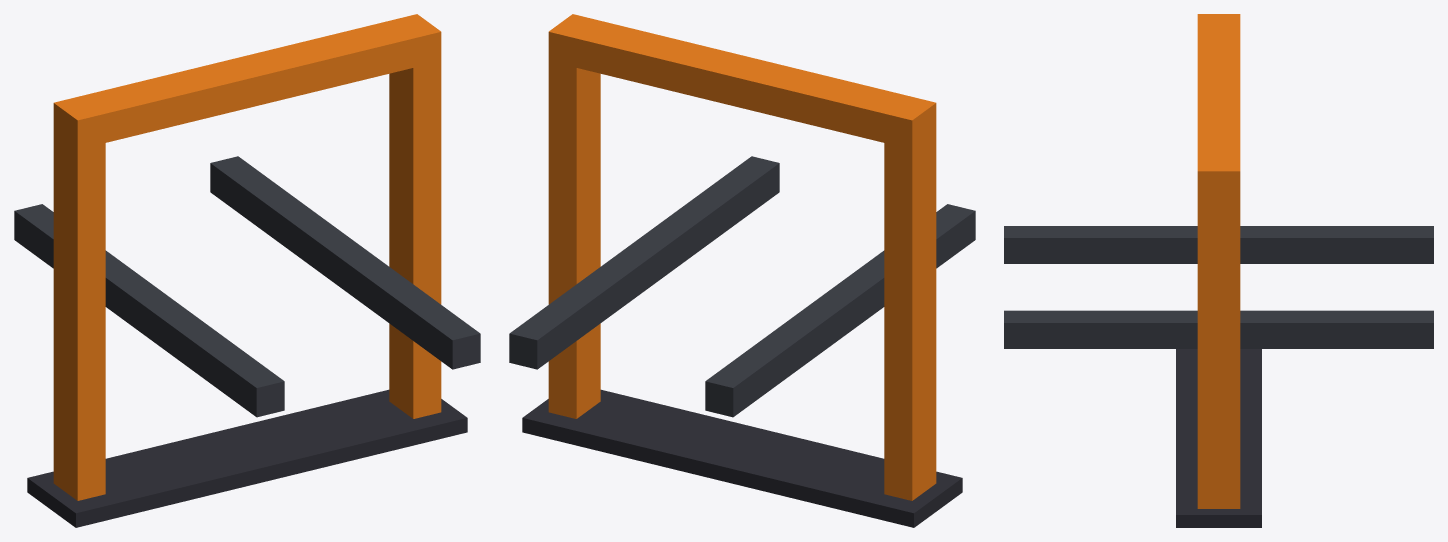
The model's file is garage_car_lift.glb.
The picture shows the model from 3 angles, left to right: view 1: azimuth 30°, elevation 25°; view 2: azimuth 150°, elevation 25°; view 3: azimuth 270°, elevation 25°; orthographic projection. The views are drawn at different scales.
Visible parts, largest first — view 1: car_lift; view 2: car_lift; view 3: car_lift.
Part boxes in pixels (<box>): car_lift: <box>14,14,480,527</box>; car_lift: <box>509,14,975,527</box>; car_lift: <box>1004,14,1433,527</box>.
Bounding box in the file's own units: 2.8 × 2.7 × 3.
